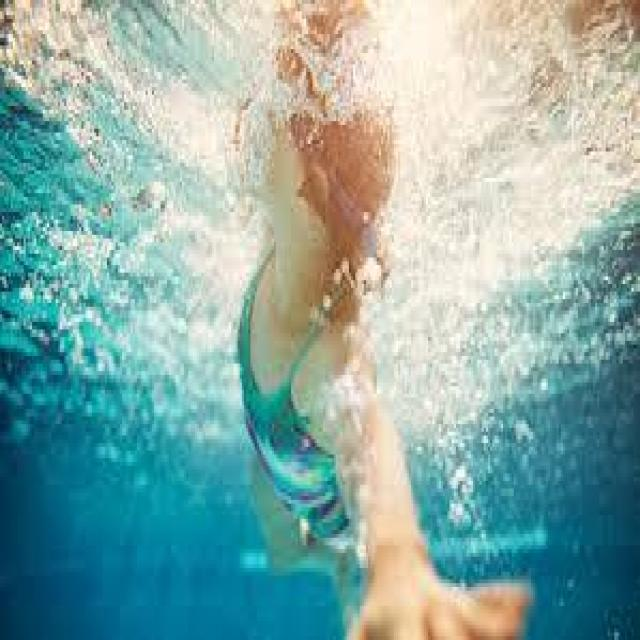Drowning: (163, 54, 550, 640)
